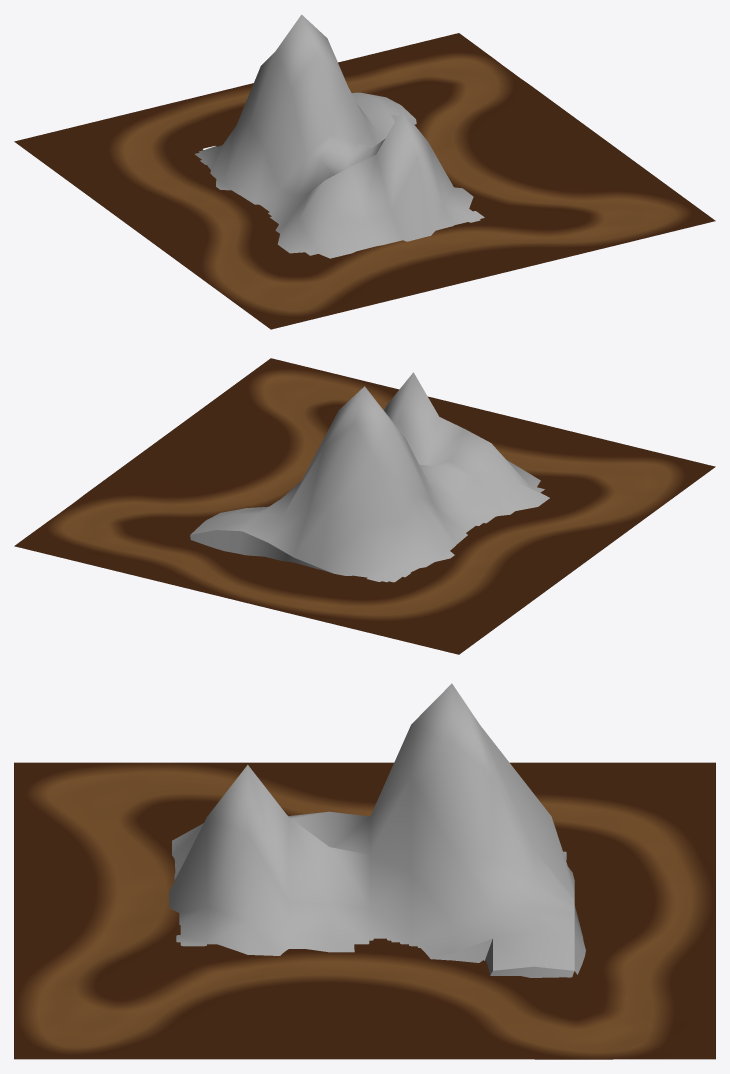
File: track01.fbx
The picture shows the model from 3 angles, top to bottom: view 1: azimuth 30°, elevation 25°; view 2: azimuth 150°, elevation 25°; view 3: azimuth 270°, elevation 25°; orthographic projection. The views are drawn at different scales.
Visible parts, largest first — view 1: floor, mountain; view 2: floor, mountain; view 3: floor, mountain.
Part boxes in pixels (box(x1,y1,x2,y2)): floor: box(14, 33, 715, 329); mountain: box(195, 14, 484, 258); floor: box(14, 358, 715, 654); mountain: box(190, 372, 549, 582); floor: box(14, 762, 715, 1059); mountain: box(169, 683, 585, 977).
Size of the model in its own units: 500 by 199 by 500.
Materials: 2 (1 with a texture image).
